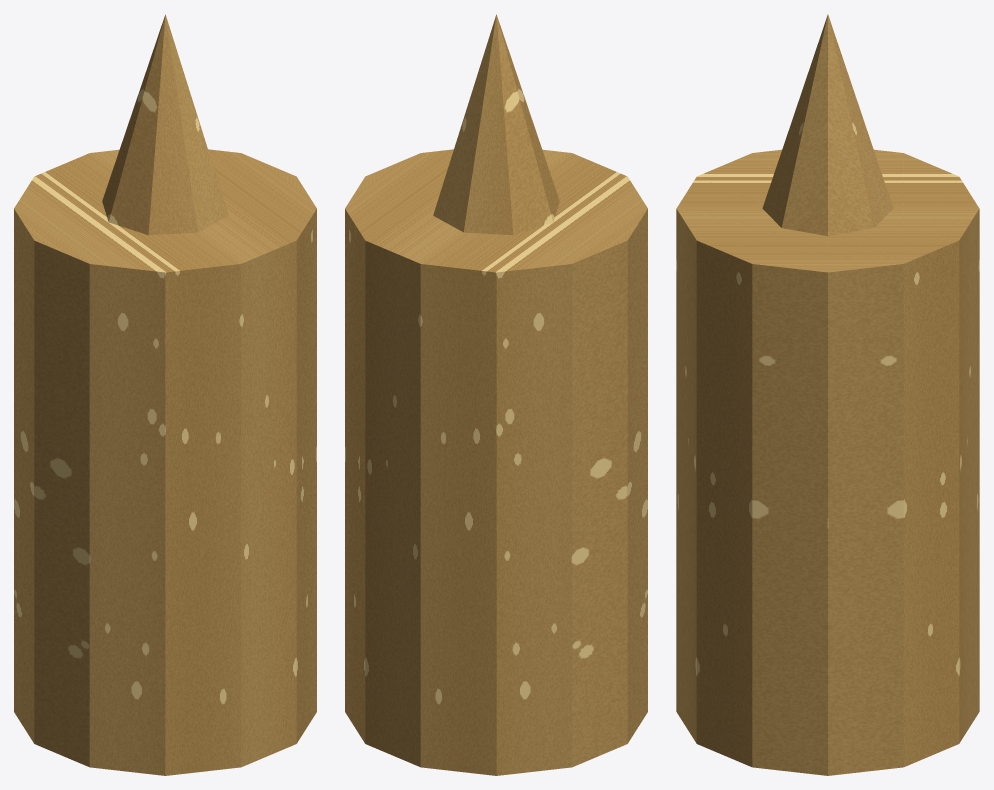
Rendered from veladora.obj.
3 renders of one model, left to right at view 1: azimuth 30°, elevation 25°; view 2: azimuth 150°, elevation 25°; view 3: azimuth 270°, elevation 25°, orthographic.
Visible parts, largest first — view 1: veladora; view 2: veladora; view 3: veladora.
Part boxes in pixels (bbox=[...]): veladora: bbox=[14, 14, 316, 775]; veladora: bbox=[345, 14, 647, 775]; veladora: bbox=[676, 14, 979, 775].
Bounding box in the file's own units: 0.24 × 0.61 × 0.24.
1 material, 1 textured.
